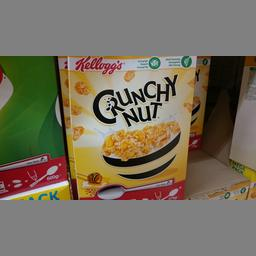cereal: (66, 55, 194, 198)
